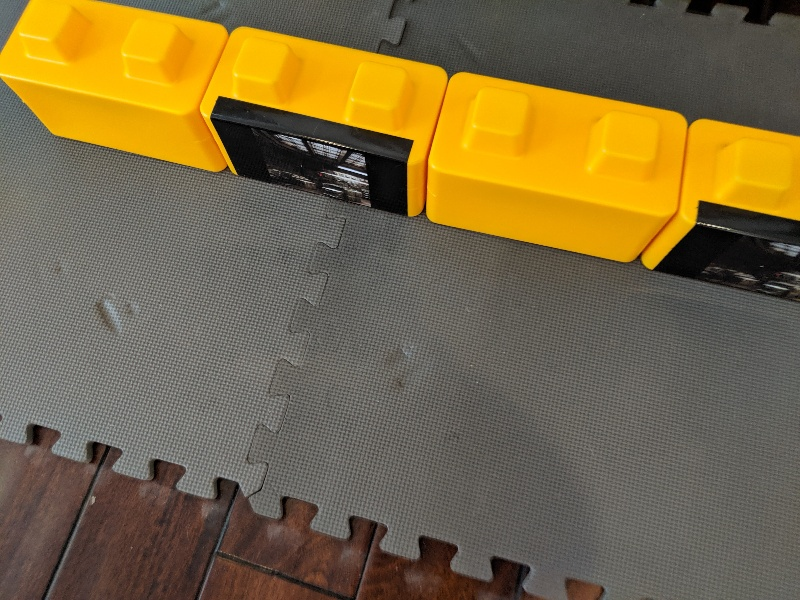Skystone: (204, 91, 414, 225)
